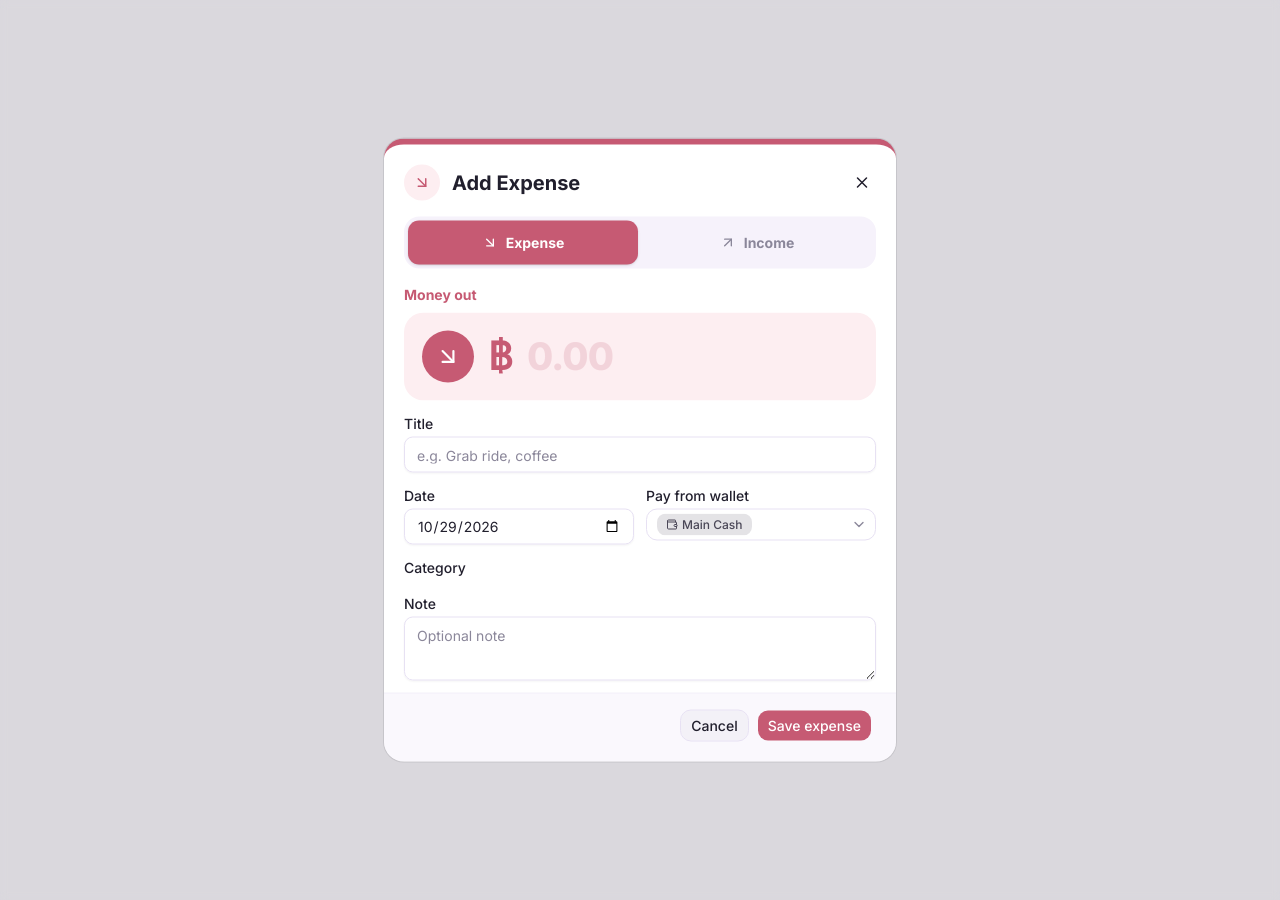
AddTransactionModal — shared wallet › keeps the personal category chips and offers shared wallets with a Shared tag
Expected: the element "Category" is shown, x1=404 y1=558 x2=466 y2=576
Expected: the radio button labelled "Food & Drinks" is not shown
Click the dropdown named "Pay from wallet". click: (761, 524)
box: x1=646 y1=508 x2=876 y2=540
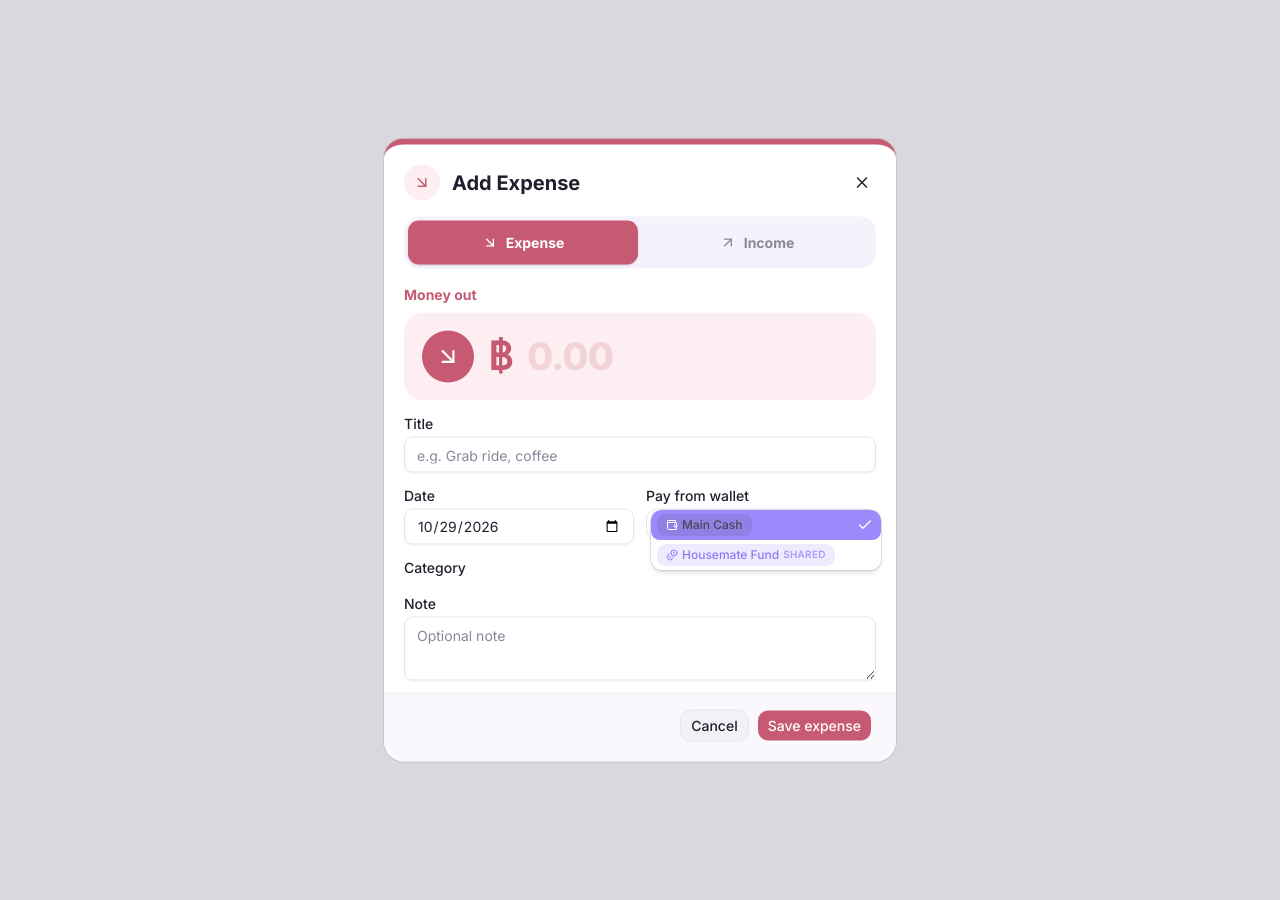
Result: the option "Housemate Fund Shared" is shown
Choosing the shared wallet swaps in the fixed presets.
Click the option "Housemate Fund Shared". click: (746, 554)
box: x1=657 y1=544 x2=835 y2=566
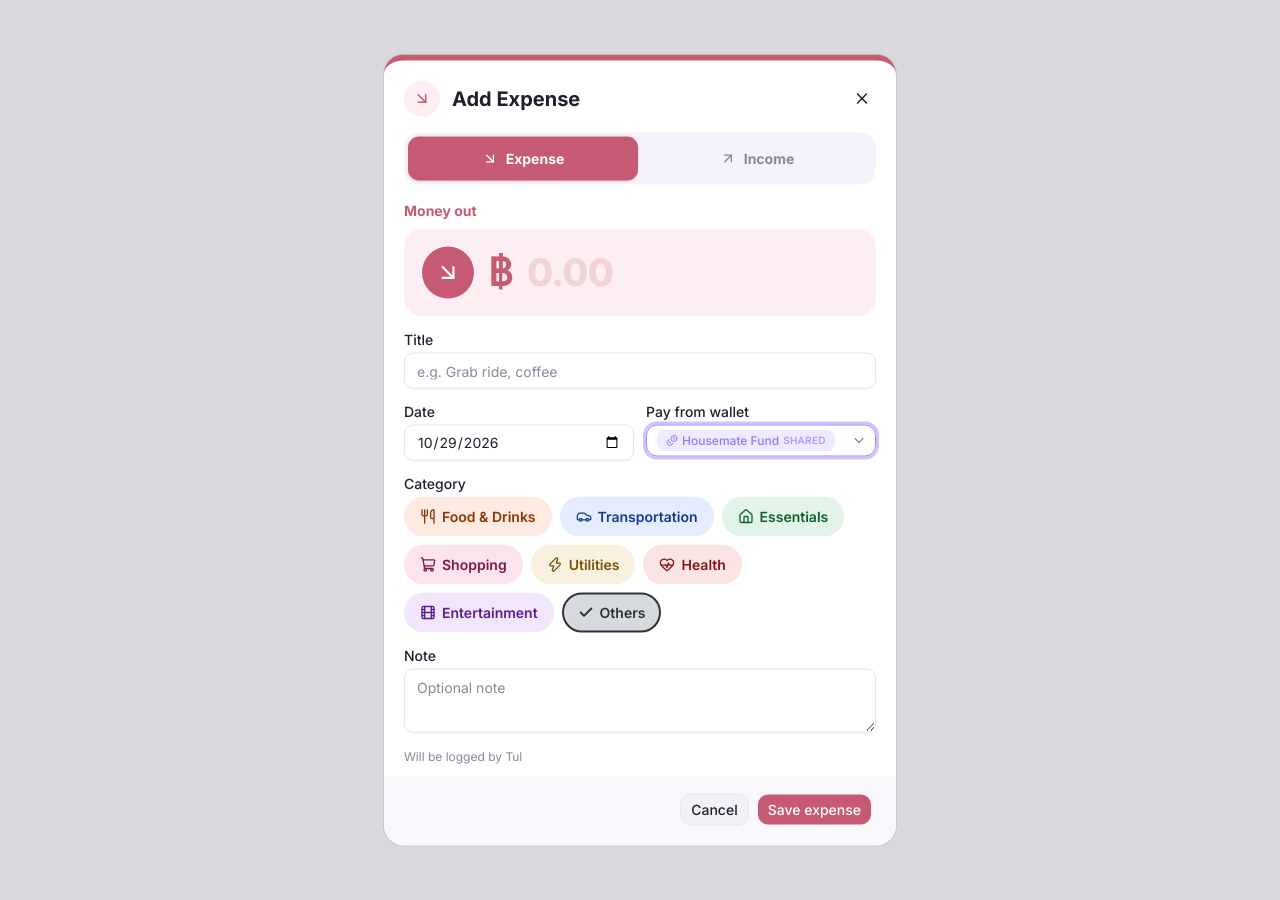
Result: the radio button labelled "Food & Drinks" is shown at x1=404 y1=496 x2=552 y2=536
Result: the text "Will be logged by Tul" is shown at x1=404 y1=748 x2=522 y2=764
